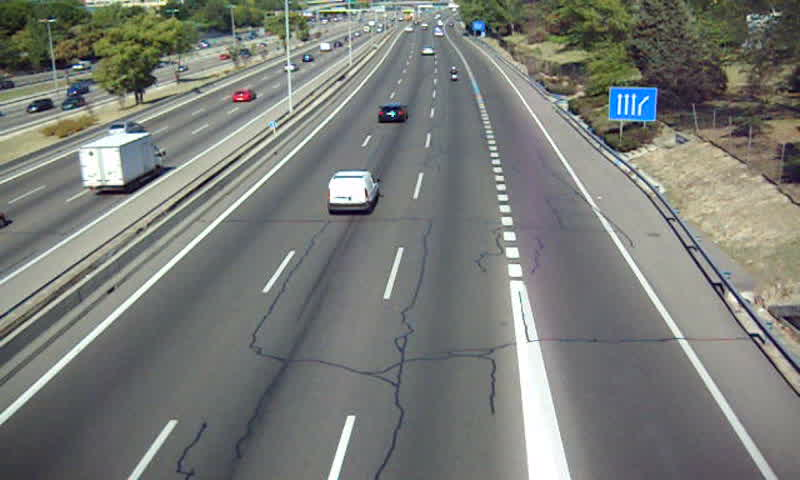car: (377, 105, 408, 126)
motorcycle: (449, 66, 460, 81)
van: (326, 171, 382, 214)
